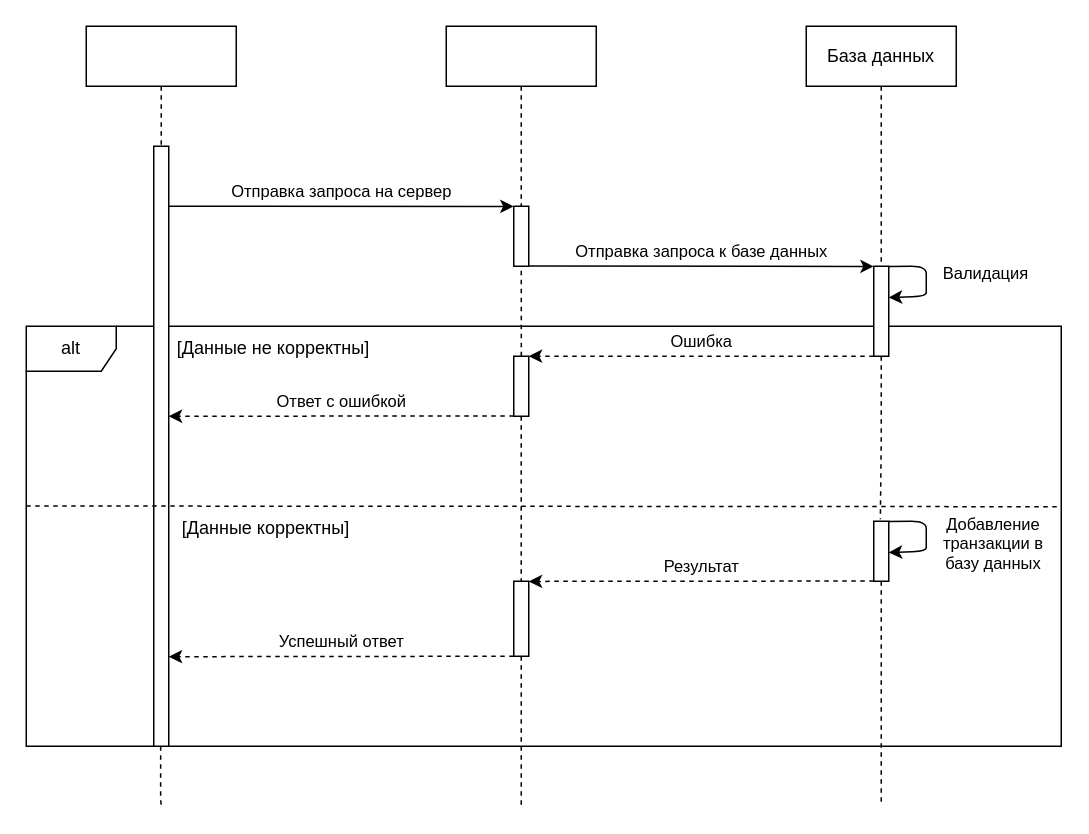
The diagram is 1089 pixels wide and 834 high, and some of its shapes have lost their labels. The shapes that lost their labels are listed below. From the top down, each one's centre as x and y in pixels, then its label:
At [160,85]: "Пользователь".
At [520,115]: "Сервер".
